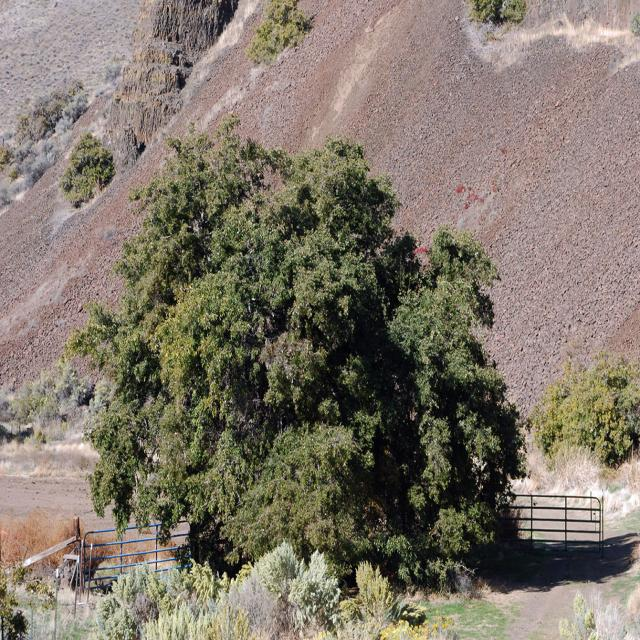Celtis reticulata: (63, 114, 529, 594)
